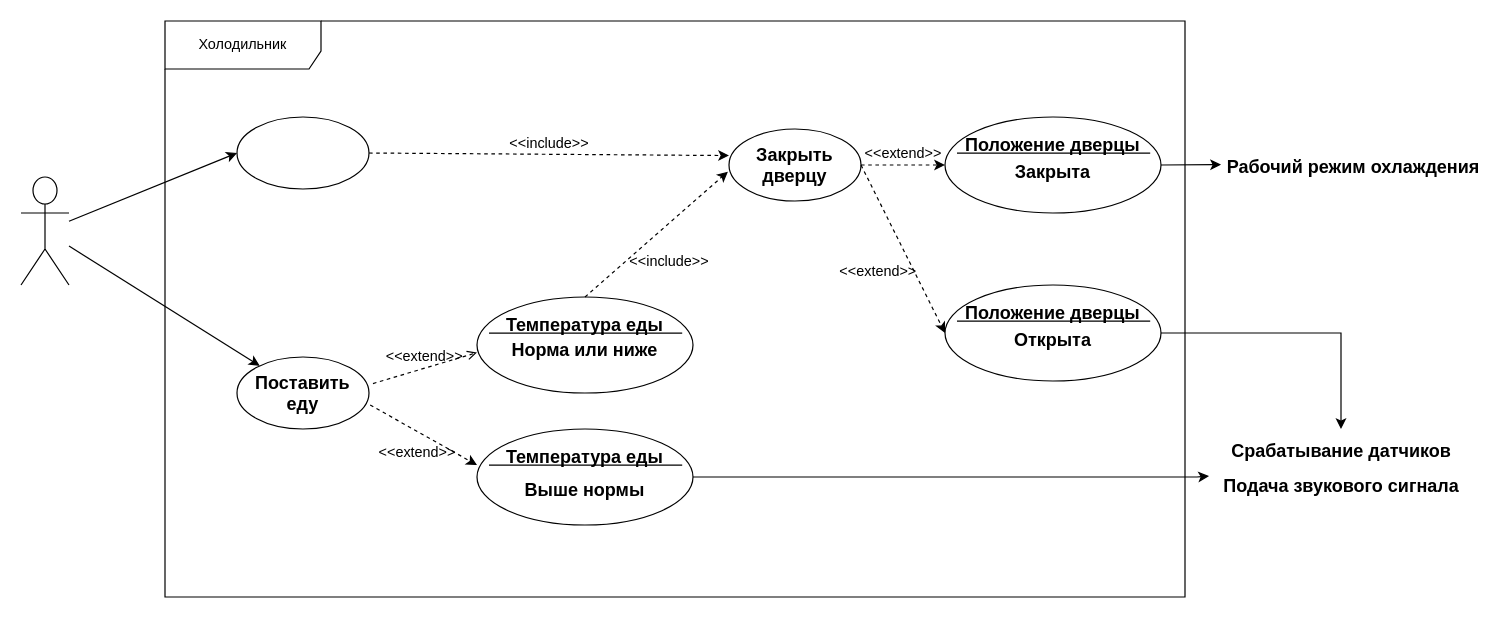
Image size: 1506x618. Some labels were removed from this diagram. The box of each missing label's shape, as (x1, y1, x2, y2) in pixels:
Actor: (20, 176, 69, 285)
Взять еду: (236, 116, 369, 189)
